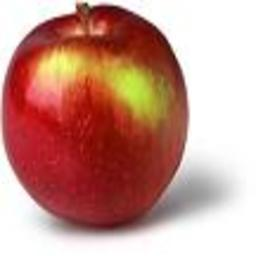apple: (0, 4, 192, 228)
